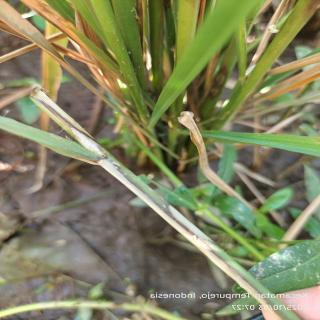Busuk-Pelepah: (77, 131, 197, 236)
